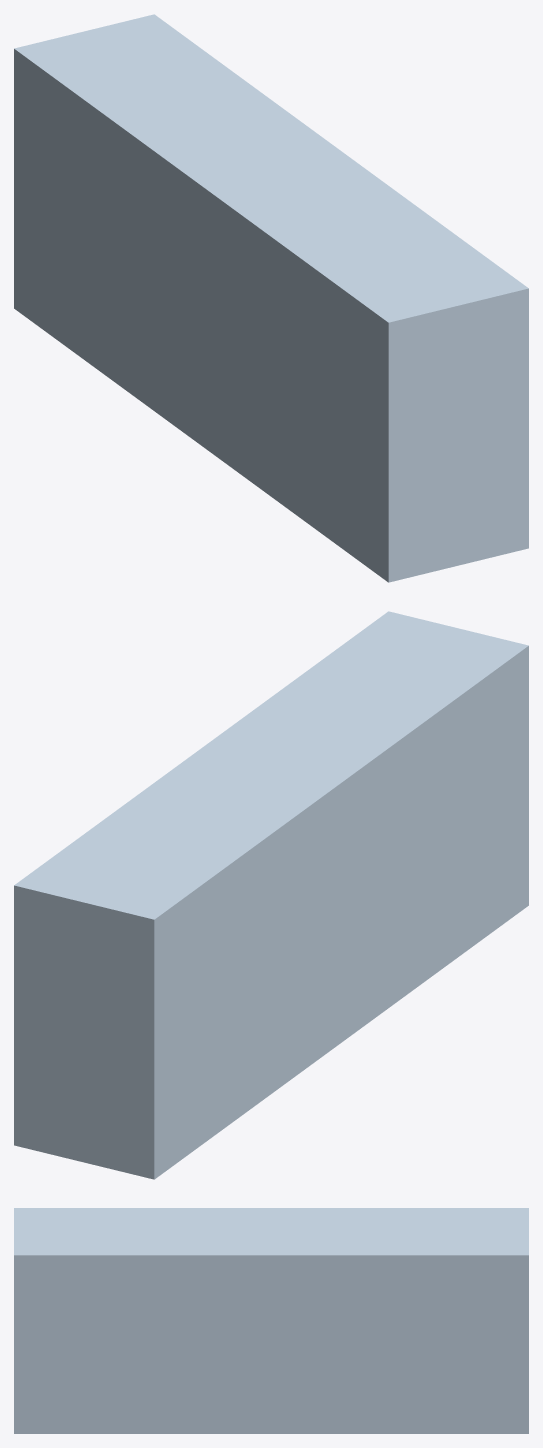
The model's file is ShortWall.fbx.
The picture shows the model from 3 angles, top to bottom: view 1: azimuth 30°, elevation 25°; view 2: azimuth 150°, elevation 25°; view 3: azimuth 270°, elevation 25°; orthographic projection. The views are drawn at different scales.
Visible parts, largest first — view 1: SHORT WALL; view 2: SHORT WALL; view 3: SHORT WALL.
Part boxes in pixels (bbox=[...]): SHORT WALL: bbox=[14, 14, 528, 582]; SHORT WALL: bbox=[14, 611, 528, 1179]; SHORT WALL: bbox=[14, 1208, 528, 1433].
Bounding box in the file's own units: 25.51 × 45.13 × 118.
